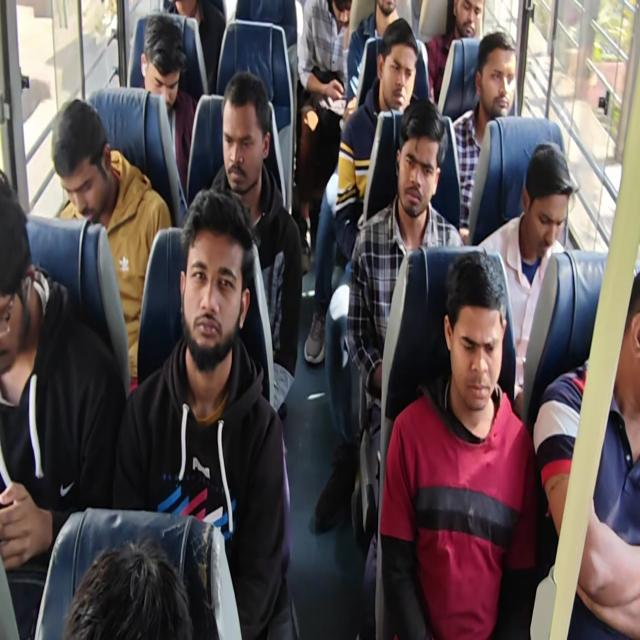person: (46, 90, 155, 267), (61, 518, 212, 640), (176, 177, 256, 376), (443, 242, 511, 418), (1, 165, 42, 404), (504, 140, 587, 254), (391, 106, 464, 217), (215, 65, 264, 217), (366, 17, 430, 112), (137, 12, 190, 107), (480, 36, 523, 118), (329, 2, 357, 31), (376, 0, 400, 26)
